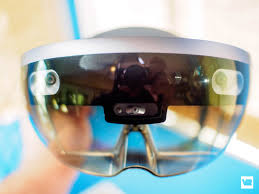hololens: (19, 34, 252, 178)
